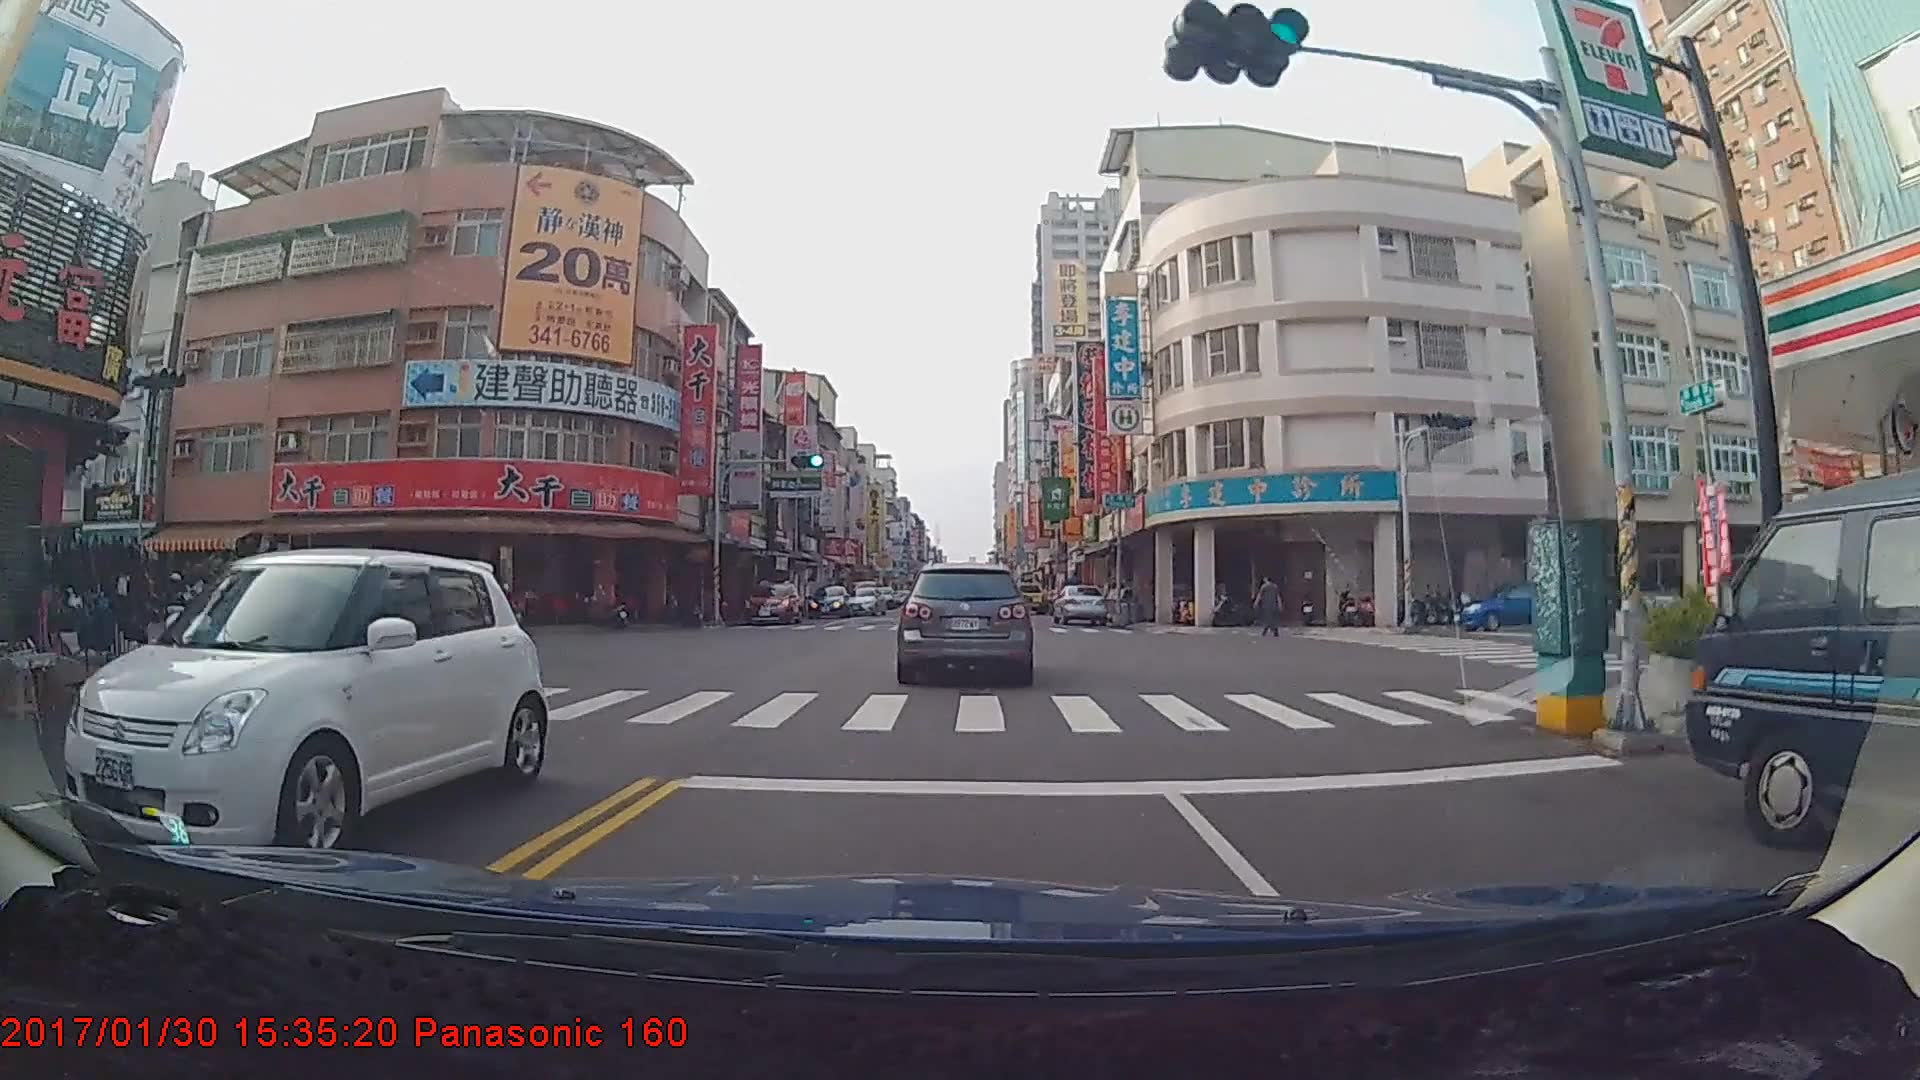pedestrian: (1255, 575, 1284, 641)
rider: (160, 566, 196, 665)
vehicle: (60, 540, 550, 861), (1683, 450, 1920, 903), (898, 563, 1032, 685), (1451, 579, 1582, 632), (746, 578, 801, 625), (1050, 580, 1108, 623), (806, 581, 851, 614), (841, 584, 884, 613), (1009, 581, 1046, 615)
